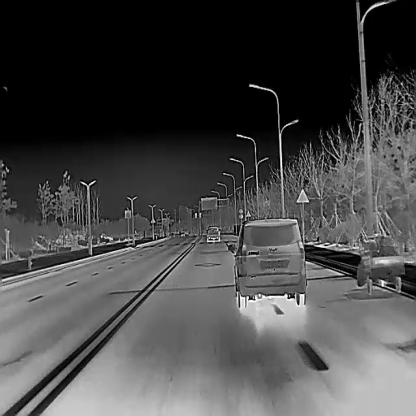car: (226, 215, 308, 308), (205, 224, 220, 242), (170, 232, 174, 236)
truck: (178, 229, 184, 237)
